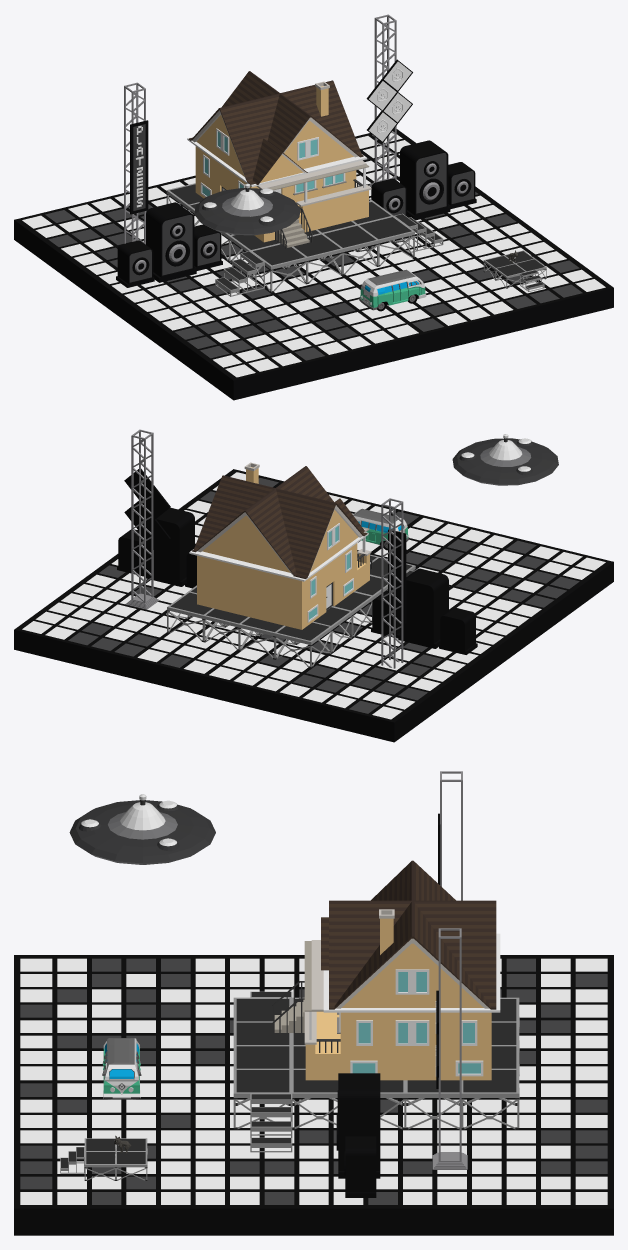
3 views of the same model, one above another, from view 1: azimuth 30°, elevation 25°; view 2: azimuth 150°, elevation 25°; view 3: azimuth 270°, elevation 25° (orthographic). The views are drawn at different scales.
Visible parts, largest first — view 1: Cube.008, Cube.235, OBJRANDOM_UFO, VEHICLES_VAN; view 2: Cube.008, Cube.235, OBJRANDOM_UFO, VEHICLES_VAN; view 3: Cube.008, Cube.235, OBJRANDOM_UFO, VEHICLES_VAN.
Part boxes in pixels (x1,y1,x2,y2): Cube.008: (14, 14, 613, 400); Cube.235: (187, 71, 371, 248); OBJRANDOM_UFO: (194, 183, 300, 235); VEHICLES_VAN: (359, 269, 426, 311); Cube.008: (14, 429, 613, 742); Cube.235: (189, 462, 372, 629); OBJRANDOM_UFO: (452, 434, 558, 485); VEHICLES_VAN: (353, 508, 409, 550); Cube.008: (14, 771, 613, 1235); Cube.235: (272, 860, 500, 1080); OBJRANDOM_UFO: (69, 794, 215, 864); VEHICLES_VAN: (102, 1038, 141, 1099).
Size of the model in its own units: 4000 by 1975 by 4000.
Materials: 40 (1 with a texture image).
